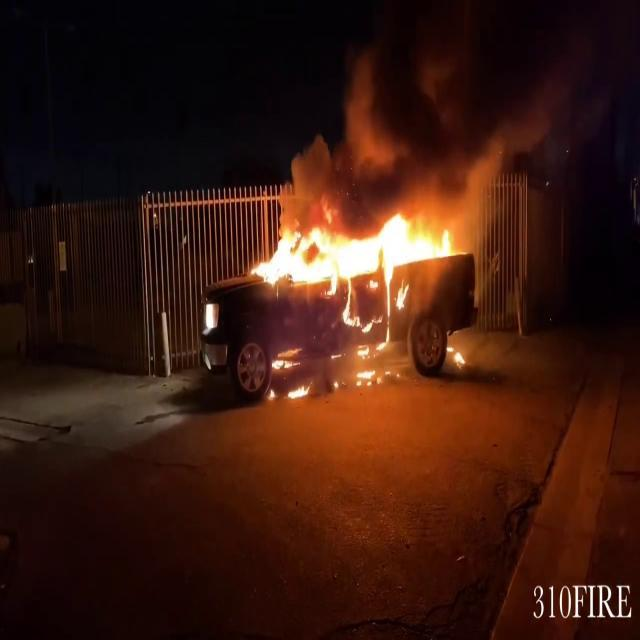Fire: (252, 204, 460, 280)
Smoke: (288, 0, 583, 217)
